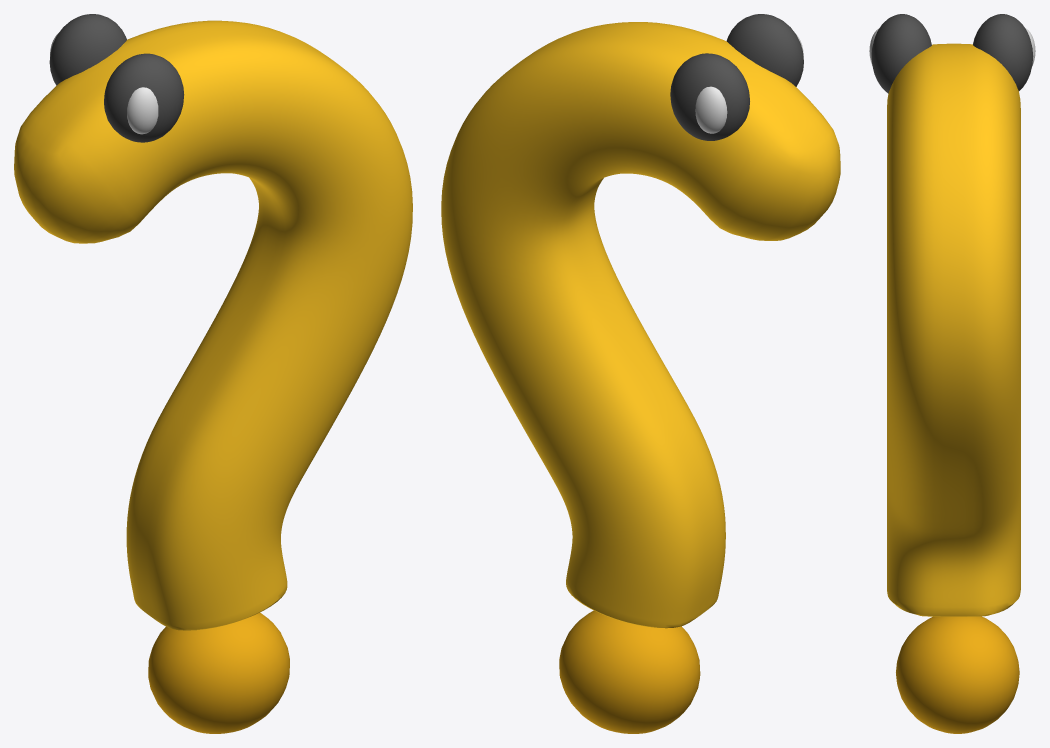
File: InitialAsker.fbx
3 renders of one model, left to right at view 1: azimuth 30°, elevation 25°; view 2: azimuth 150°, elevation 25°; view 3: azimuth 270°, elevation 25°, orthographic. The views are drawn at different scales.
Parts seen in each view (by area): view 1: Body, Tail, Eye; view 2: Body, Tail, Eye; view 3: Body, Tail, Eye.
Part boxes in pixels (x1,y1,x2,y2): Body: (14,20,412,630); Tail: (148,612,289,733); Eye: (49,14,184,142); Body: (441,22,840,628); Tail: (559,610,700,733); Eye: (670,14,803,140); Body: (887,43,1020,616); Tail: (896,616,1019,733); Eye: (869,14,1035,93).
Bounding box in the file's own units: 218 × 398 × 90.35.
